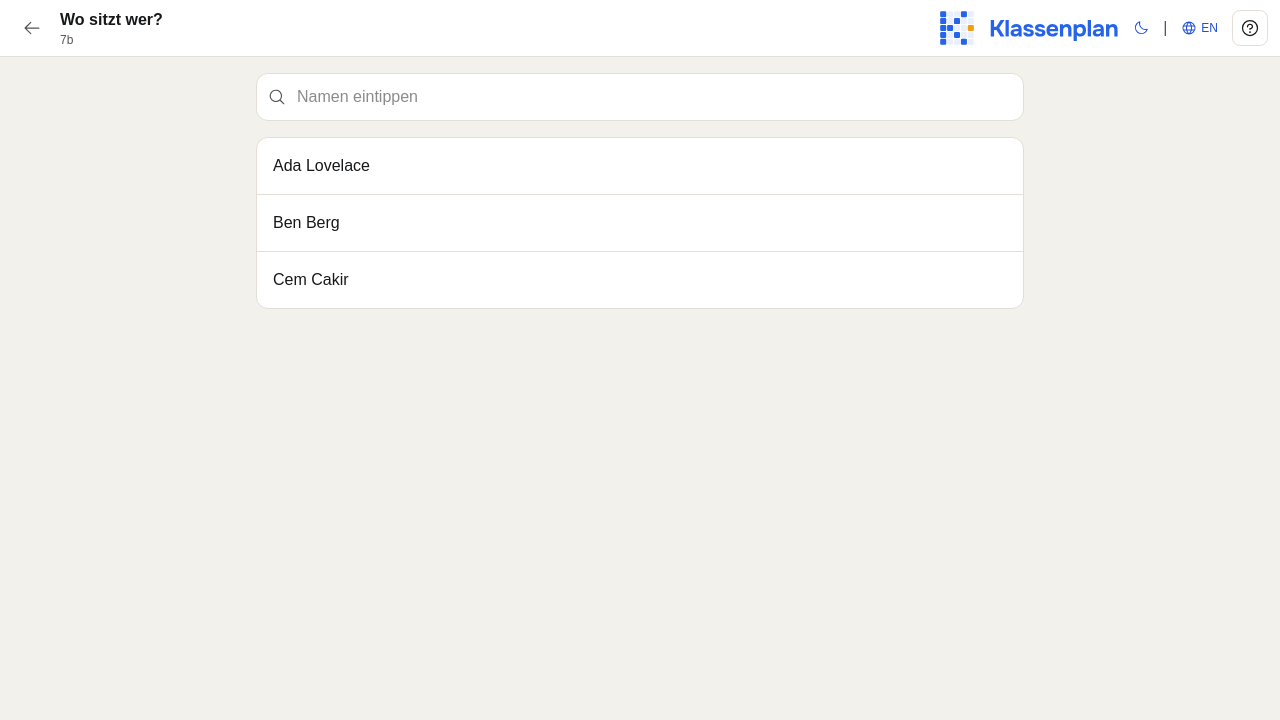
Test: Wo sitzt wer? › says so when nobody matches
This screenshot has width=1280, height=720.
Type "Zzz" into the search field at (640, 97), box [256,73,1024,121]
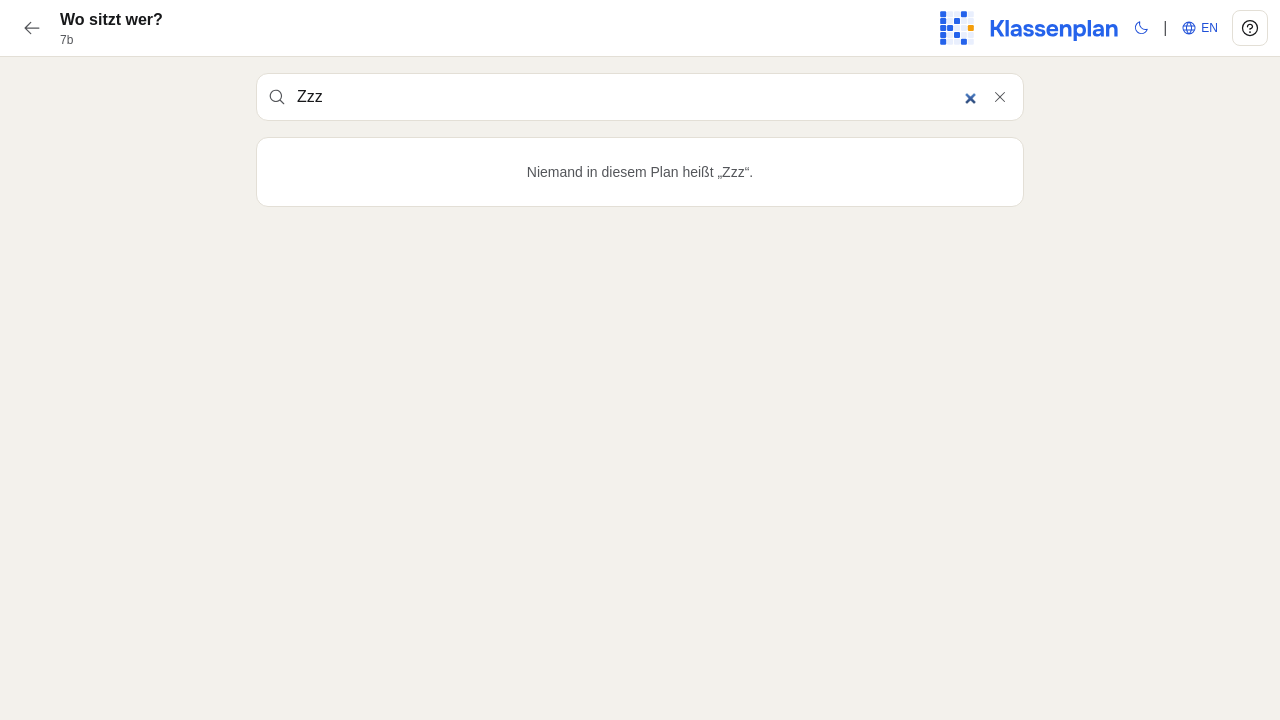
Result: the list item "Niemand in diesem Plan heißt „Zzz“." is shown at [527,164,753,180]
